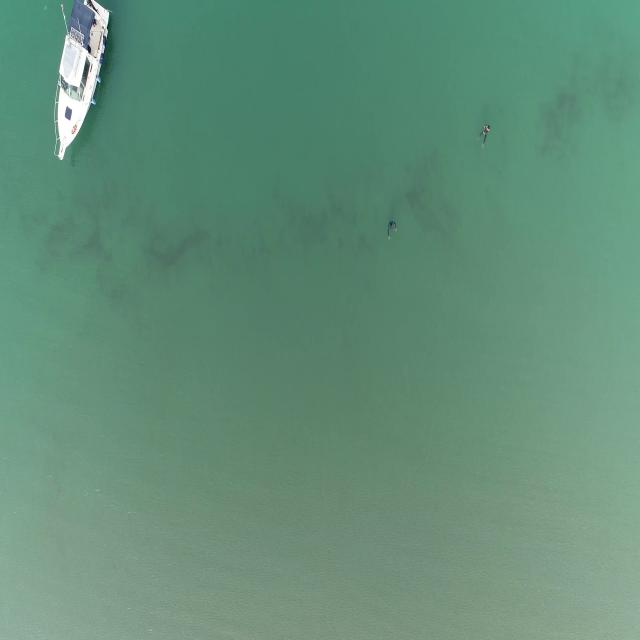boat: (50, 1, 111, 162)
person: (479, 125, 491, 154), (384, 220, 398, 243)
